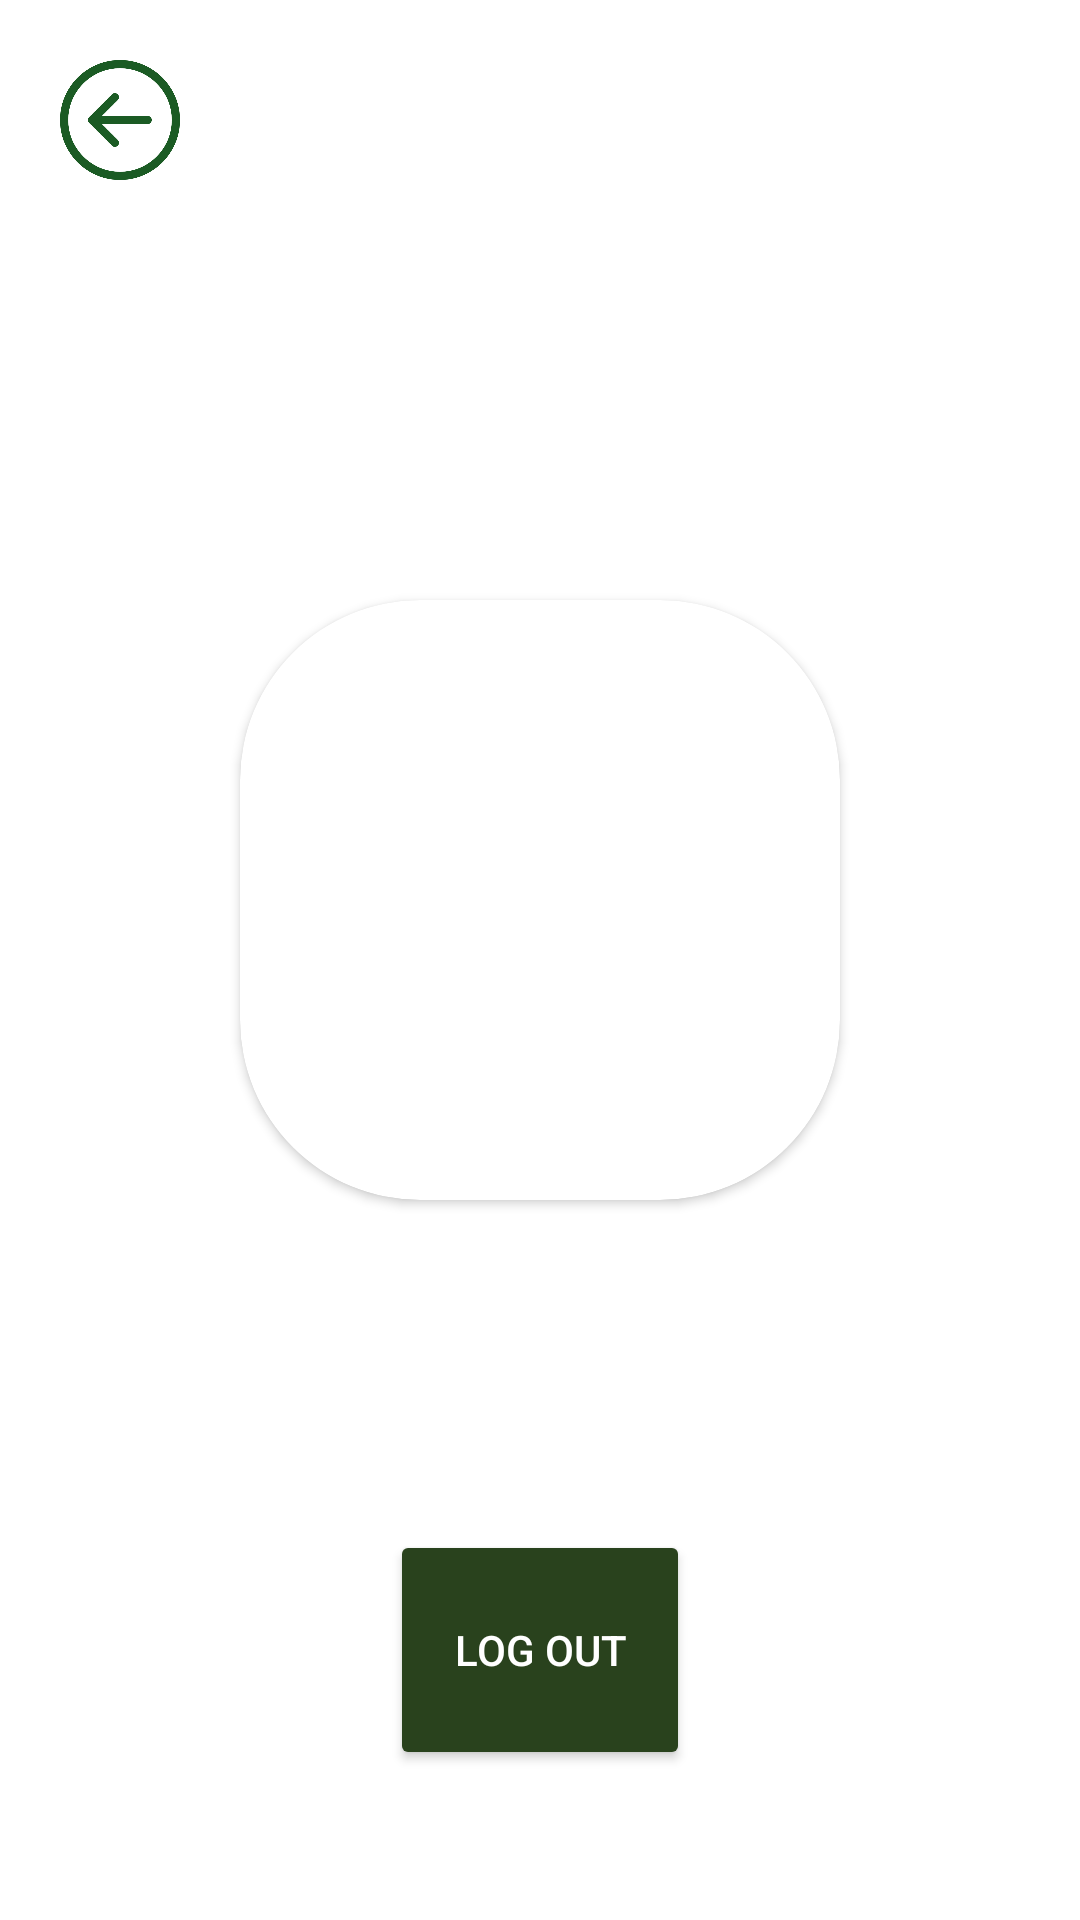

Icons on this 1080w x 1920h Android screen, each with the point to tap as [x,y]:
arrow back: [120,120]
